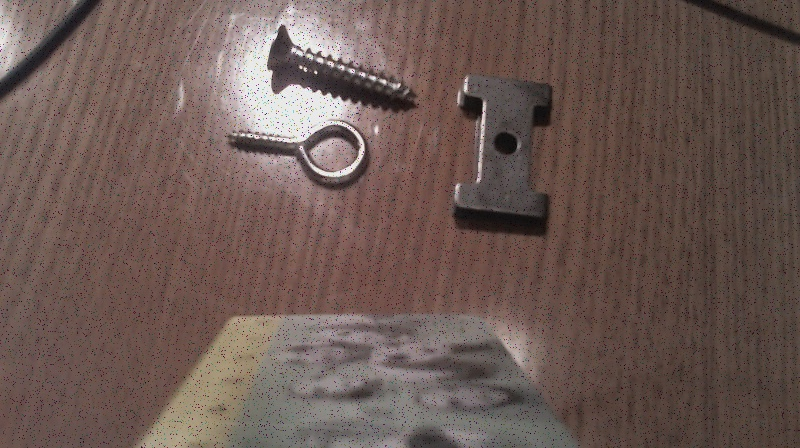O001: (219, 116, 372, 188)
O002: (445, 70, 558, 231)
S001: (256, 20, 422, 109)
